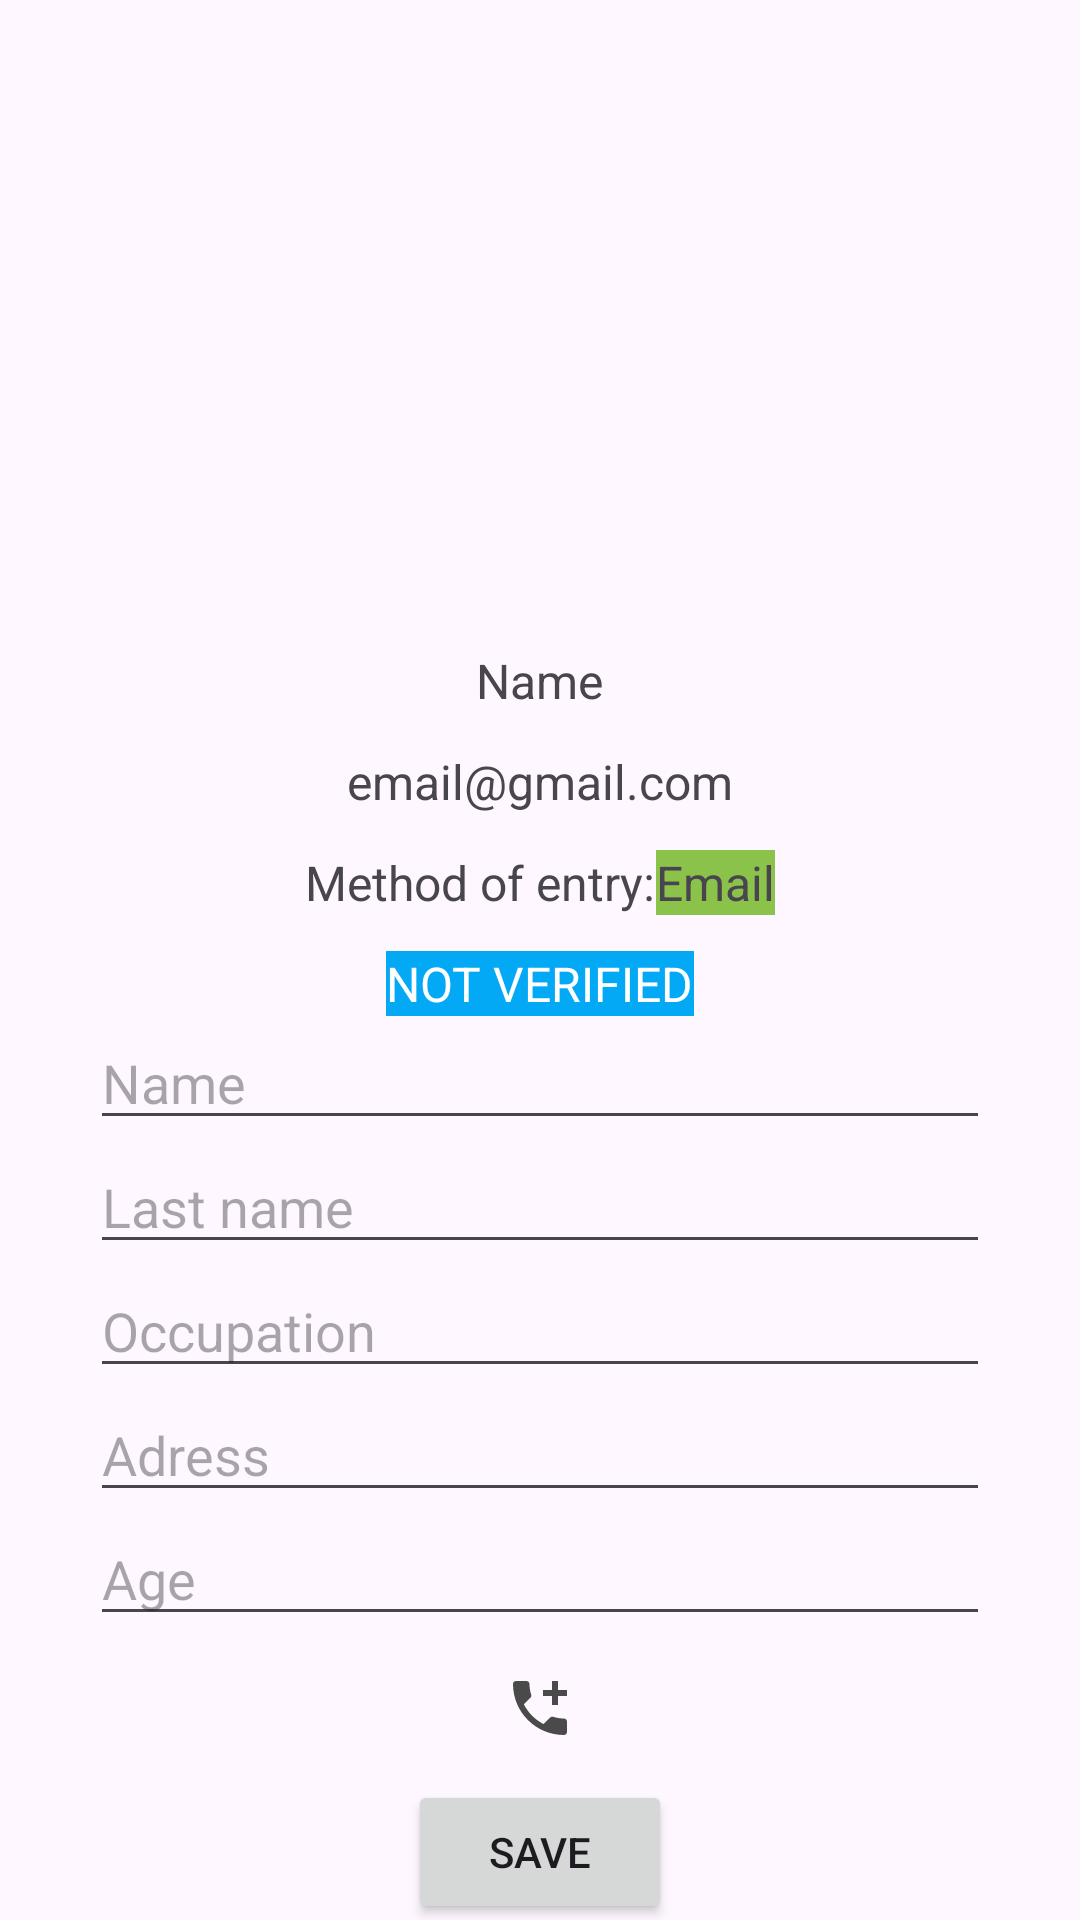

Locate icon controls on the screen. Image size 1080 × 1920, boxes as BBox(x1, y1, x2, y2).
add call: BBox(513, 1681, 567, 1735)
